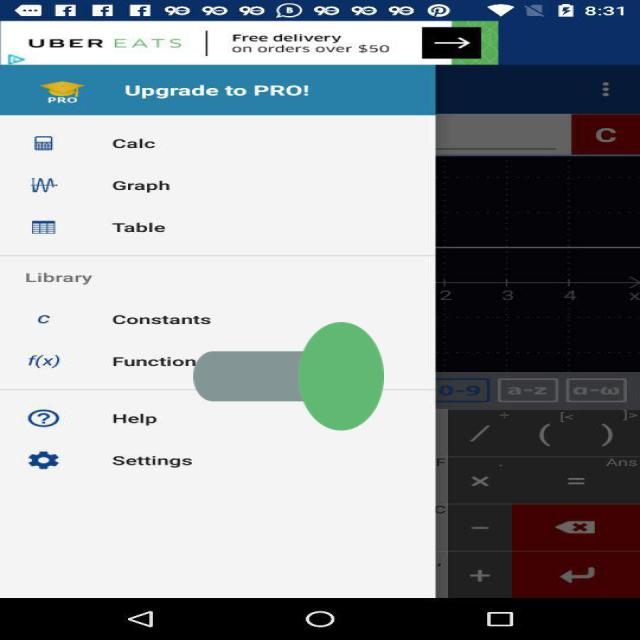social proof: (193, 255, 384, 498)
